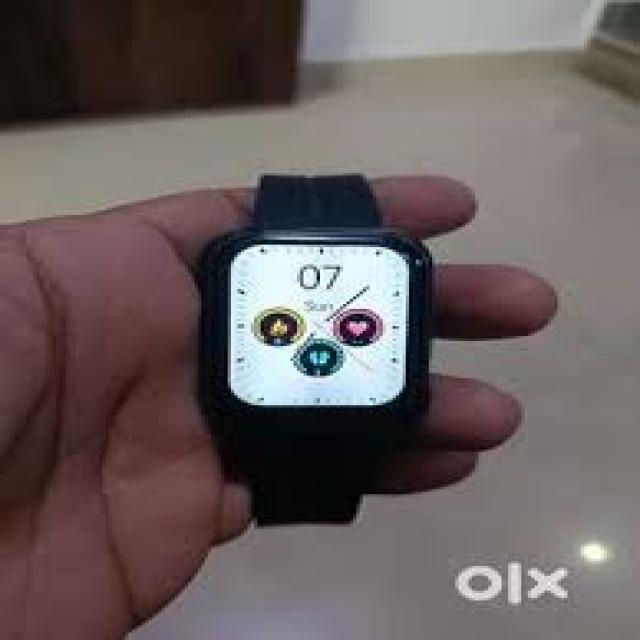objects: (195, 171, 432, 526)
